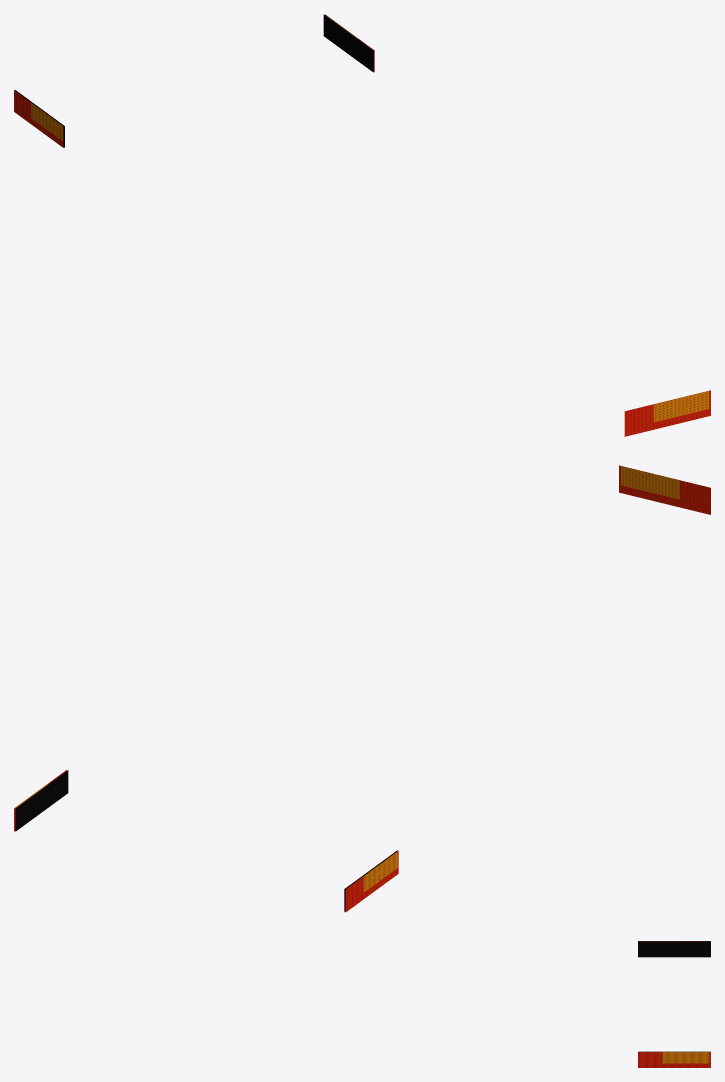
Rendered from K800_0_HAMAOTSU.glb.
The picture shows the model from 3 angles, top to bottom: view 1: azimuth 30°, elevation 25°; view 2: azimuth 150°, elevation 25°; view 3: azimuth 270°, elevation 25°; orthographic projection. The views are drawn at different scales.
Parts seen in each view (by area): view 1: FRAME_ROOT; view 2: FRAME_ROOT; view 3: FRAME_ROOT.
Boxes of the visible parts, box(x1,y1,x2,y2) form: FRAME_ROOT: box(14, 14, 710, 436); FRAME_ROOT: box(14, 465, 710, 912); FRAME_ROOT: box(638, 941, 710, 1067).
Bounding box in the file's own units: 5.39 × 0.5085 × 14.31.
Materials: 2 (2 with a texture image).
